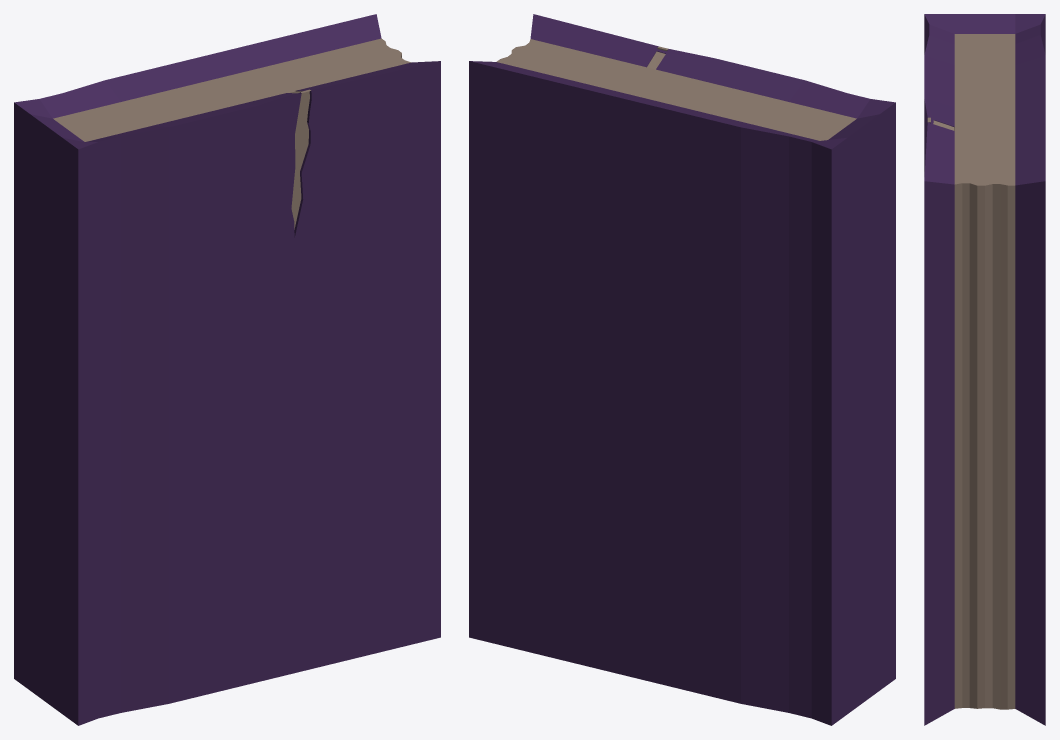
The model's file is book2.fbx.
The picture shows the model from 3 angles, left to right: view 1: azimuth 30°, elevation 25°; view 2: azimuth 150°, elevation 25°; view 3: azimuth 270°, elevation 25°; orthographic projection. The views are drawn at different scales.
Visible parts, largest first — view 1: Cube; view 2: Cube; view 3: Cube.
Boxes of the visible parts, left/top/right/bottom form: Cube: left=14, top=14, right=440, bottom=725; Cube: left=469, top=14, right=895, bottom=725; Cube: left=924, top=14, right=1045, bottom=725.
Bounding box in the file's own units: 200 × 304 × 61.41.
